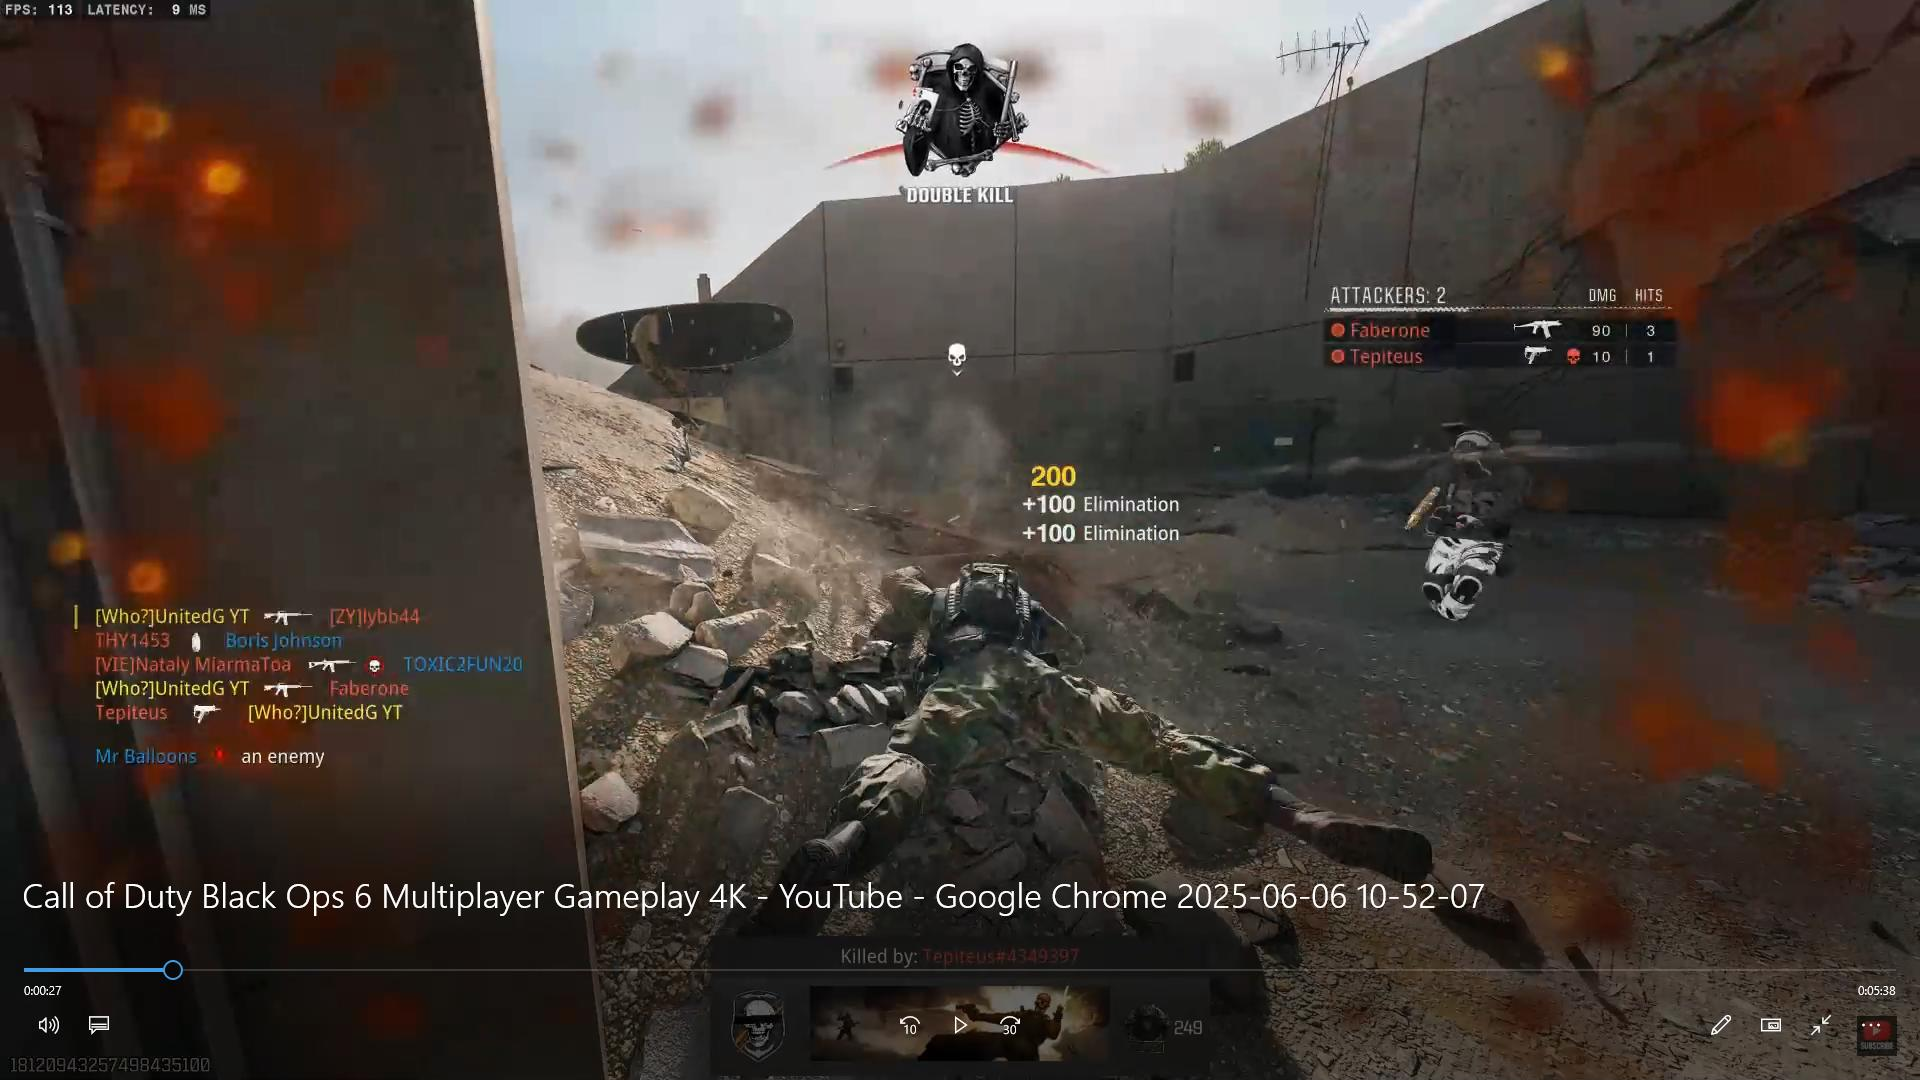Enemy: (1410, 405, 1532, 638)
